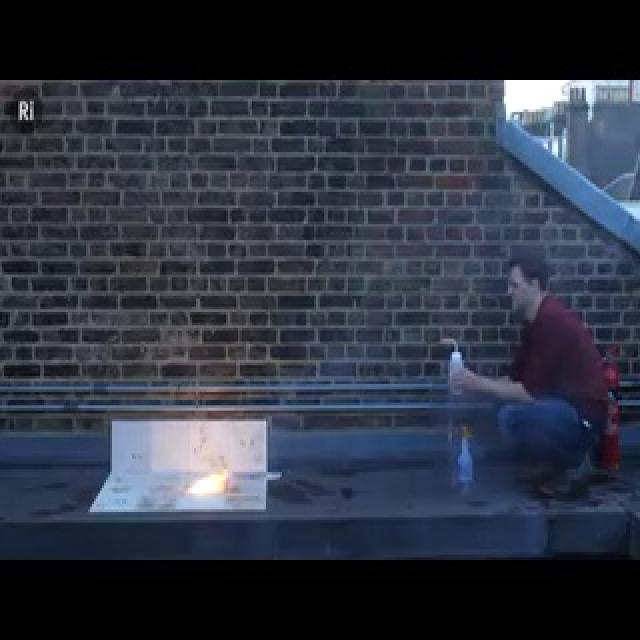Fire: (185, 443, 229, 501)
